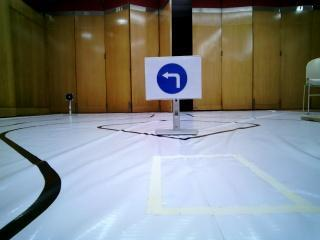left: (143, 58, 200, 98)
